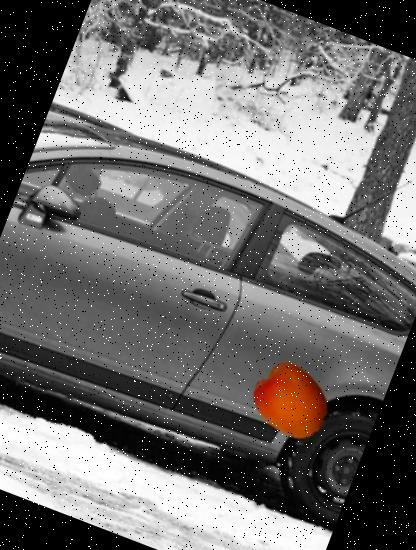Apricot: (240, 351, 342, 453)
